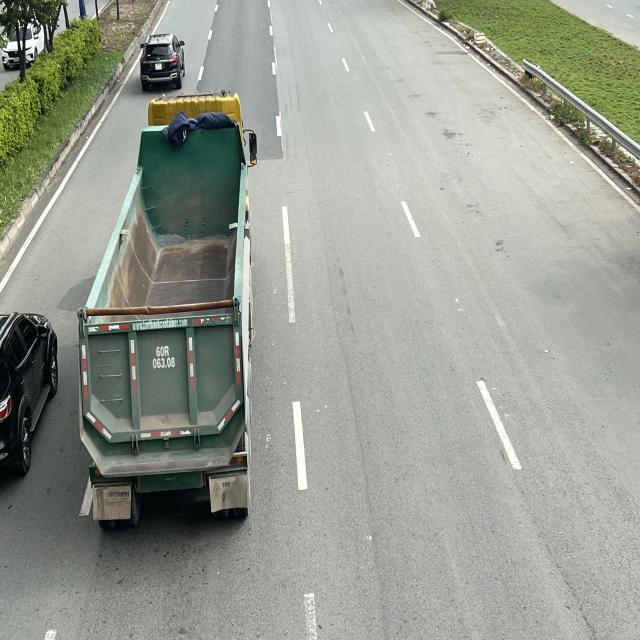car: (0, 307, 60, 485), (140, 27, 185, 90)
container: (78, 90, 258, 520)
